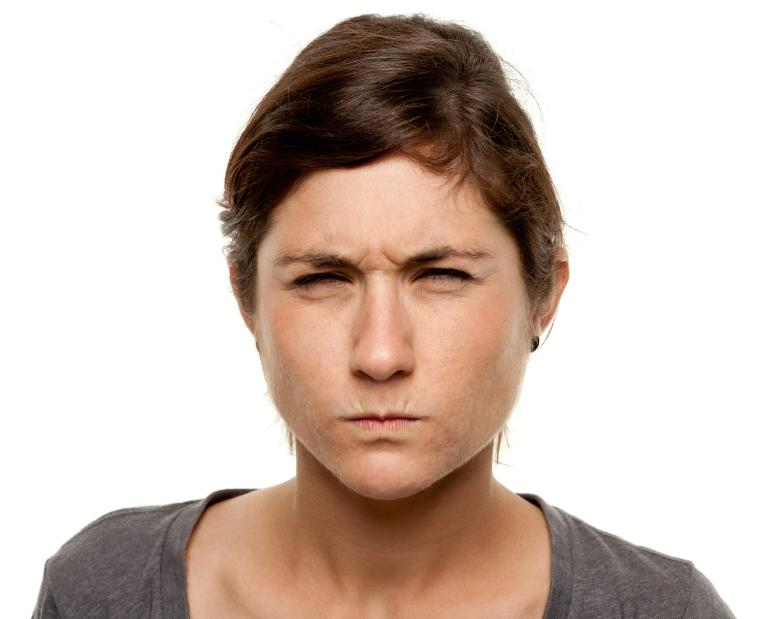angry: (251, 218, 511, 509)
